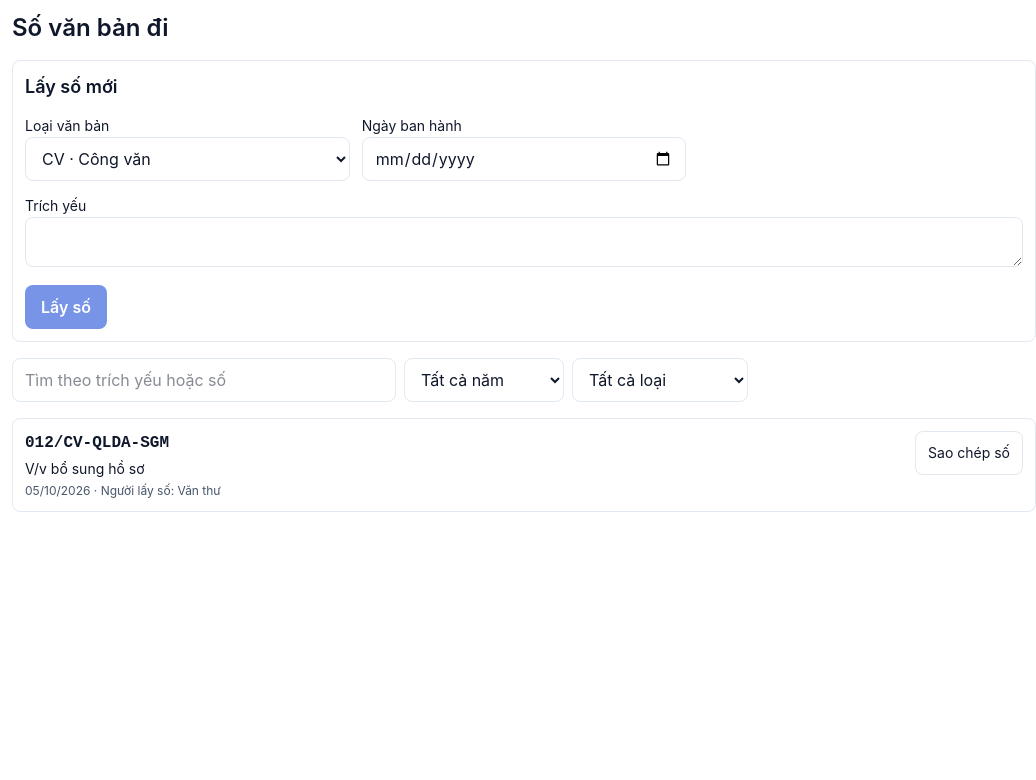
Test: OutgoingDocsPage › shows the server error
Check: the text "012/CV-QLDA-SGM" is shown, box x1=25 y1=434 x2=169 y2=452
Type "x" into the text box labelled "Trích yếu".
click(524, 242); type("x")  # box x1=25 y1=217 x2=1023 y2=267
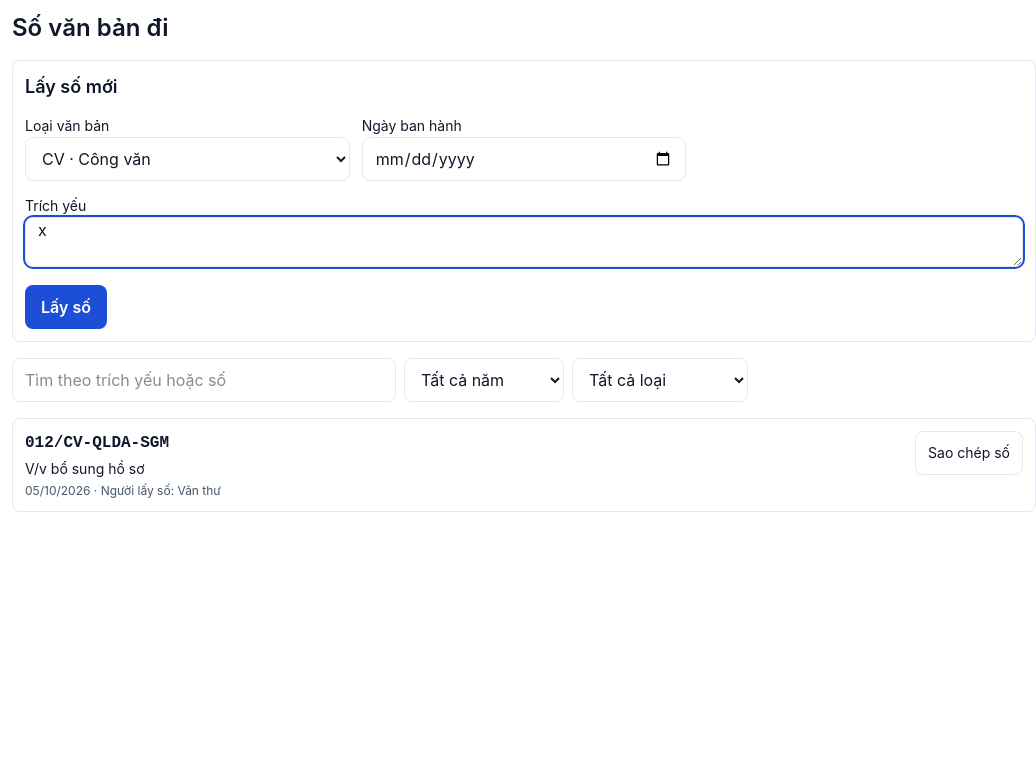
Click the button "Lấy số".
click(66, 307)  # box x1=25 y1=285 x2=107 y2=329
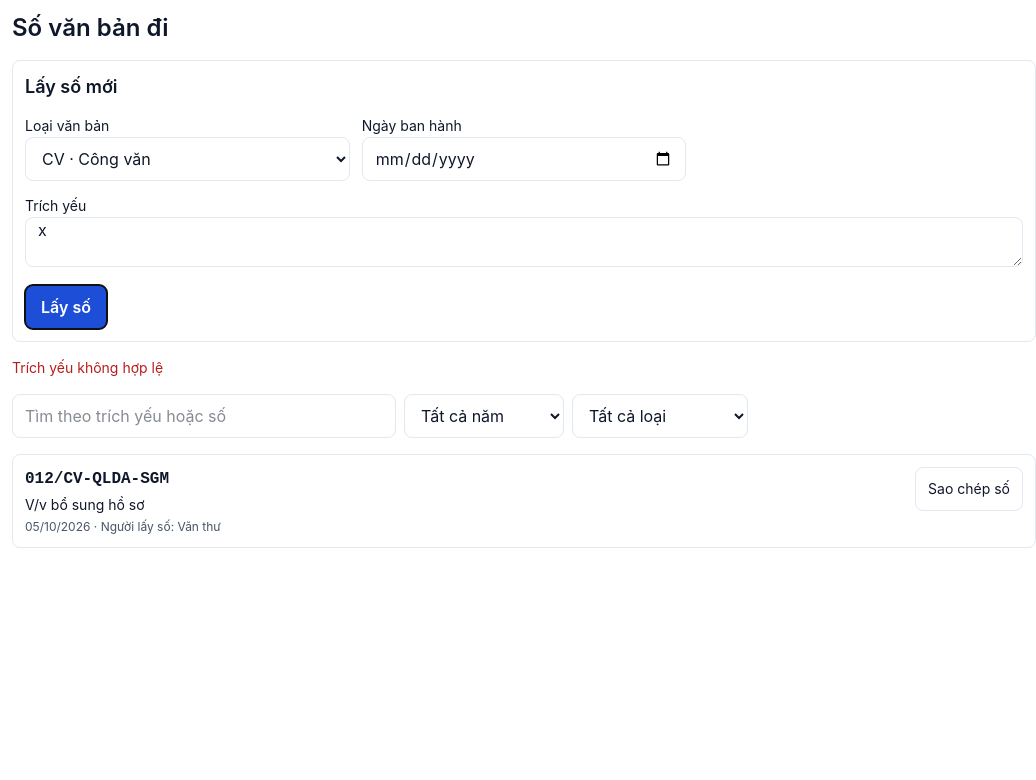
Check: the message reads "Trích yếu không hợp lệ", box x1=12 y1=359 x2=163 y2=376
